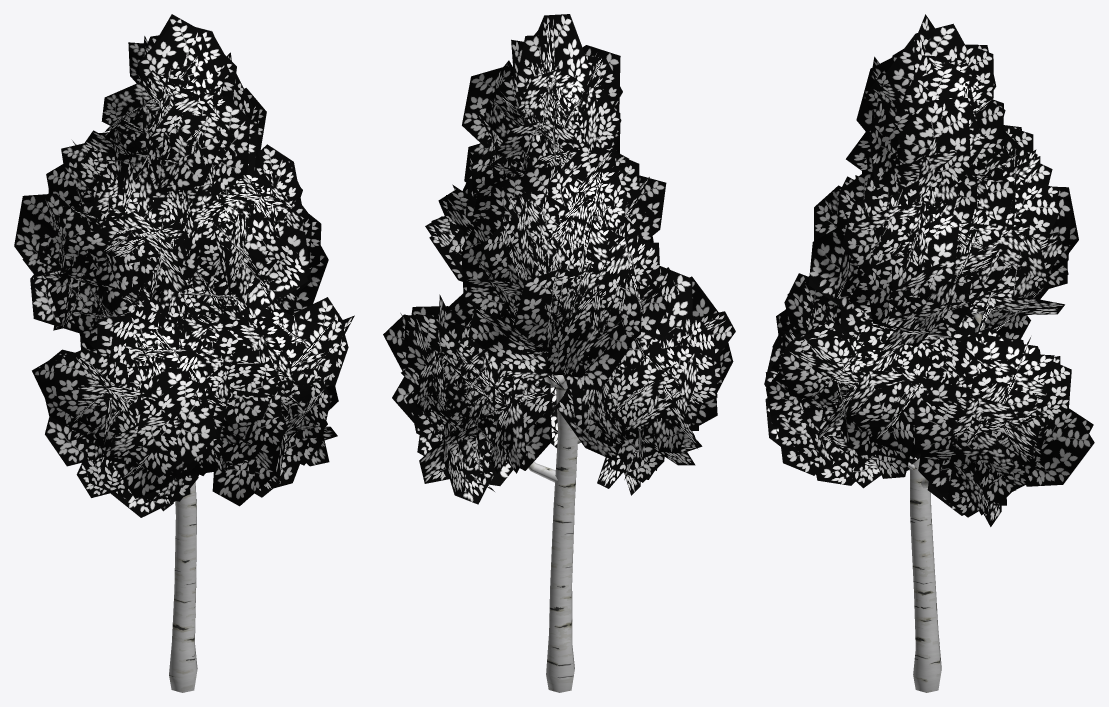
Rendered from P_BirchTree2.obj.
3 views of the same model, side by side, from view 1: azimuth 30°, elevation 25°; view 2: azimuth 150°, elevation 25°; view 3: azimuth 270°, elevation 25° (orthographic).
Bounding box in the file's own units: 9.1 × 20.39 × 9.13.
